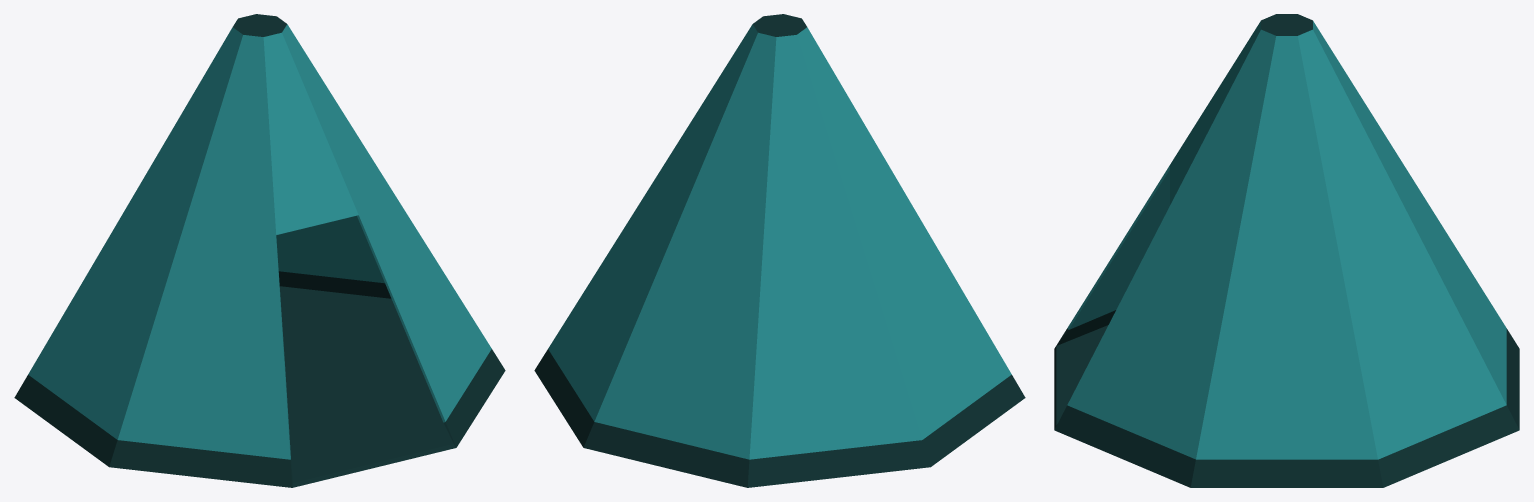
The model's file is Tent_3_Blue.fbx.
3 views of the same model, side by side, from view 1: azimuth 30°, elevation 25°; view 2: azimuth 150°, elevation 25°; view 3: azimuth 270°, elevation 25° (orthographic).
Visible parts, largest first — view 1: Tent_2_Blue; view 2: Tent_2_Blue; view 3: Tent_2_Blue.
Boxes of the visible parts, left/top/right/bottom form: Tent_2_Blue: left=14, top=14, right=505, bottom=487; Tent_2_Blue: left=534, top=14, right=1025, bottom=487; Tent_2_Blue: left=1054, top=14, right=1519, bottom=487.
Bounding box in the file's own units: 240 × 208 × 240.
